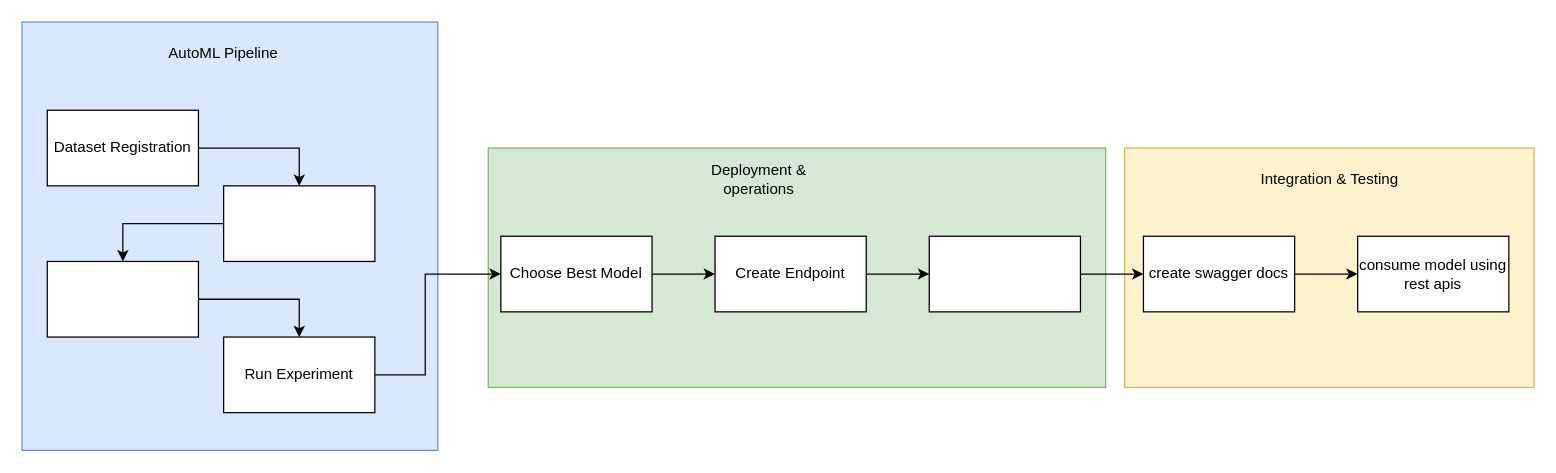
This 1556x473 diagram has some shape labels left out. The shapes that lost their labels are listed below. From the top down, each one's centre as x and y in pixels, then its label:
(298,223): Create Compute Cluster
(1004,273): Enable application insights/ logs
(122,298): Create Experiment
